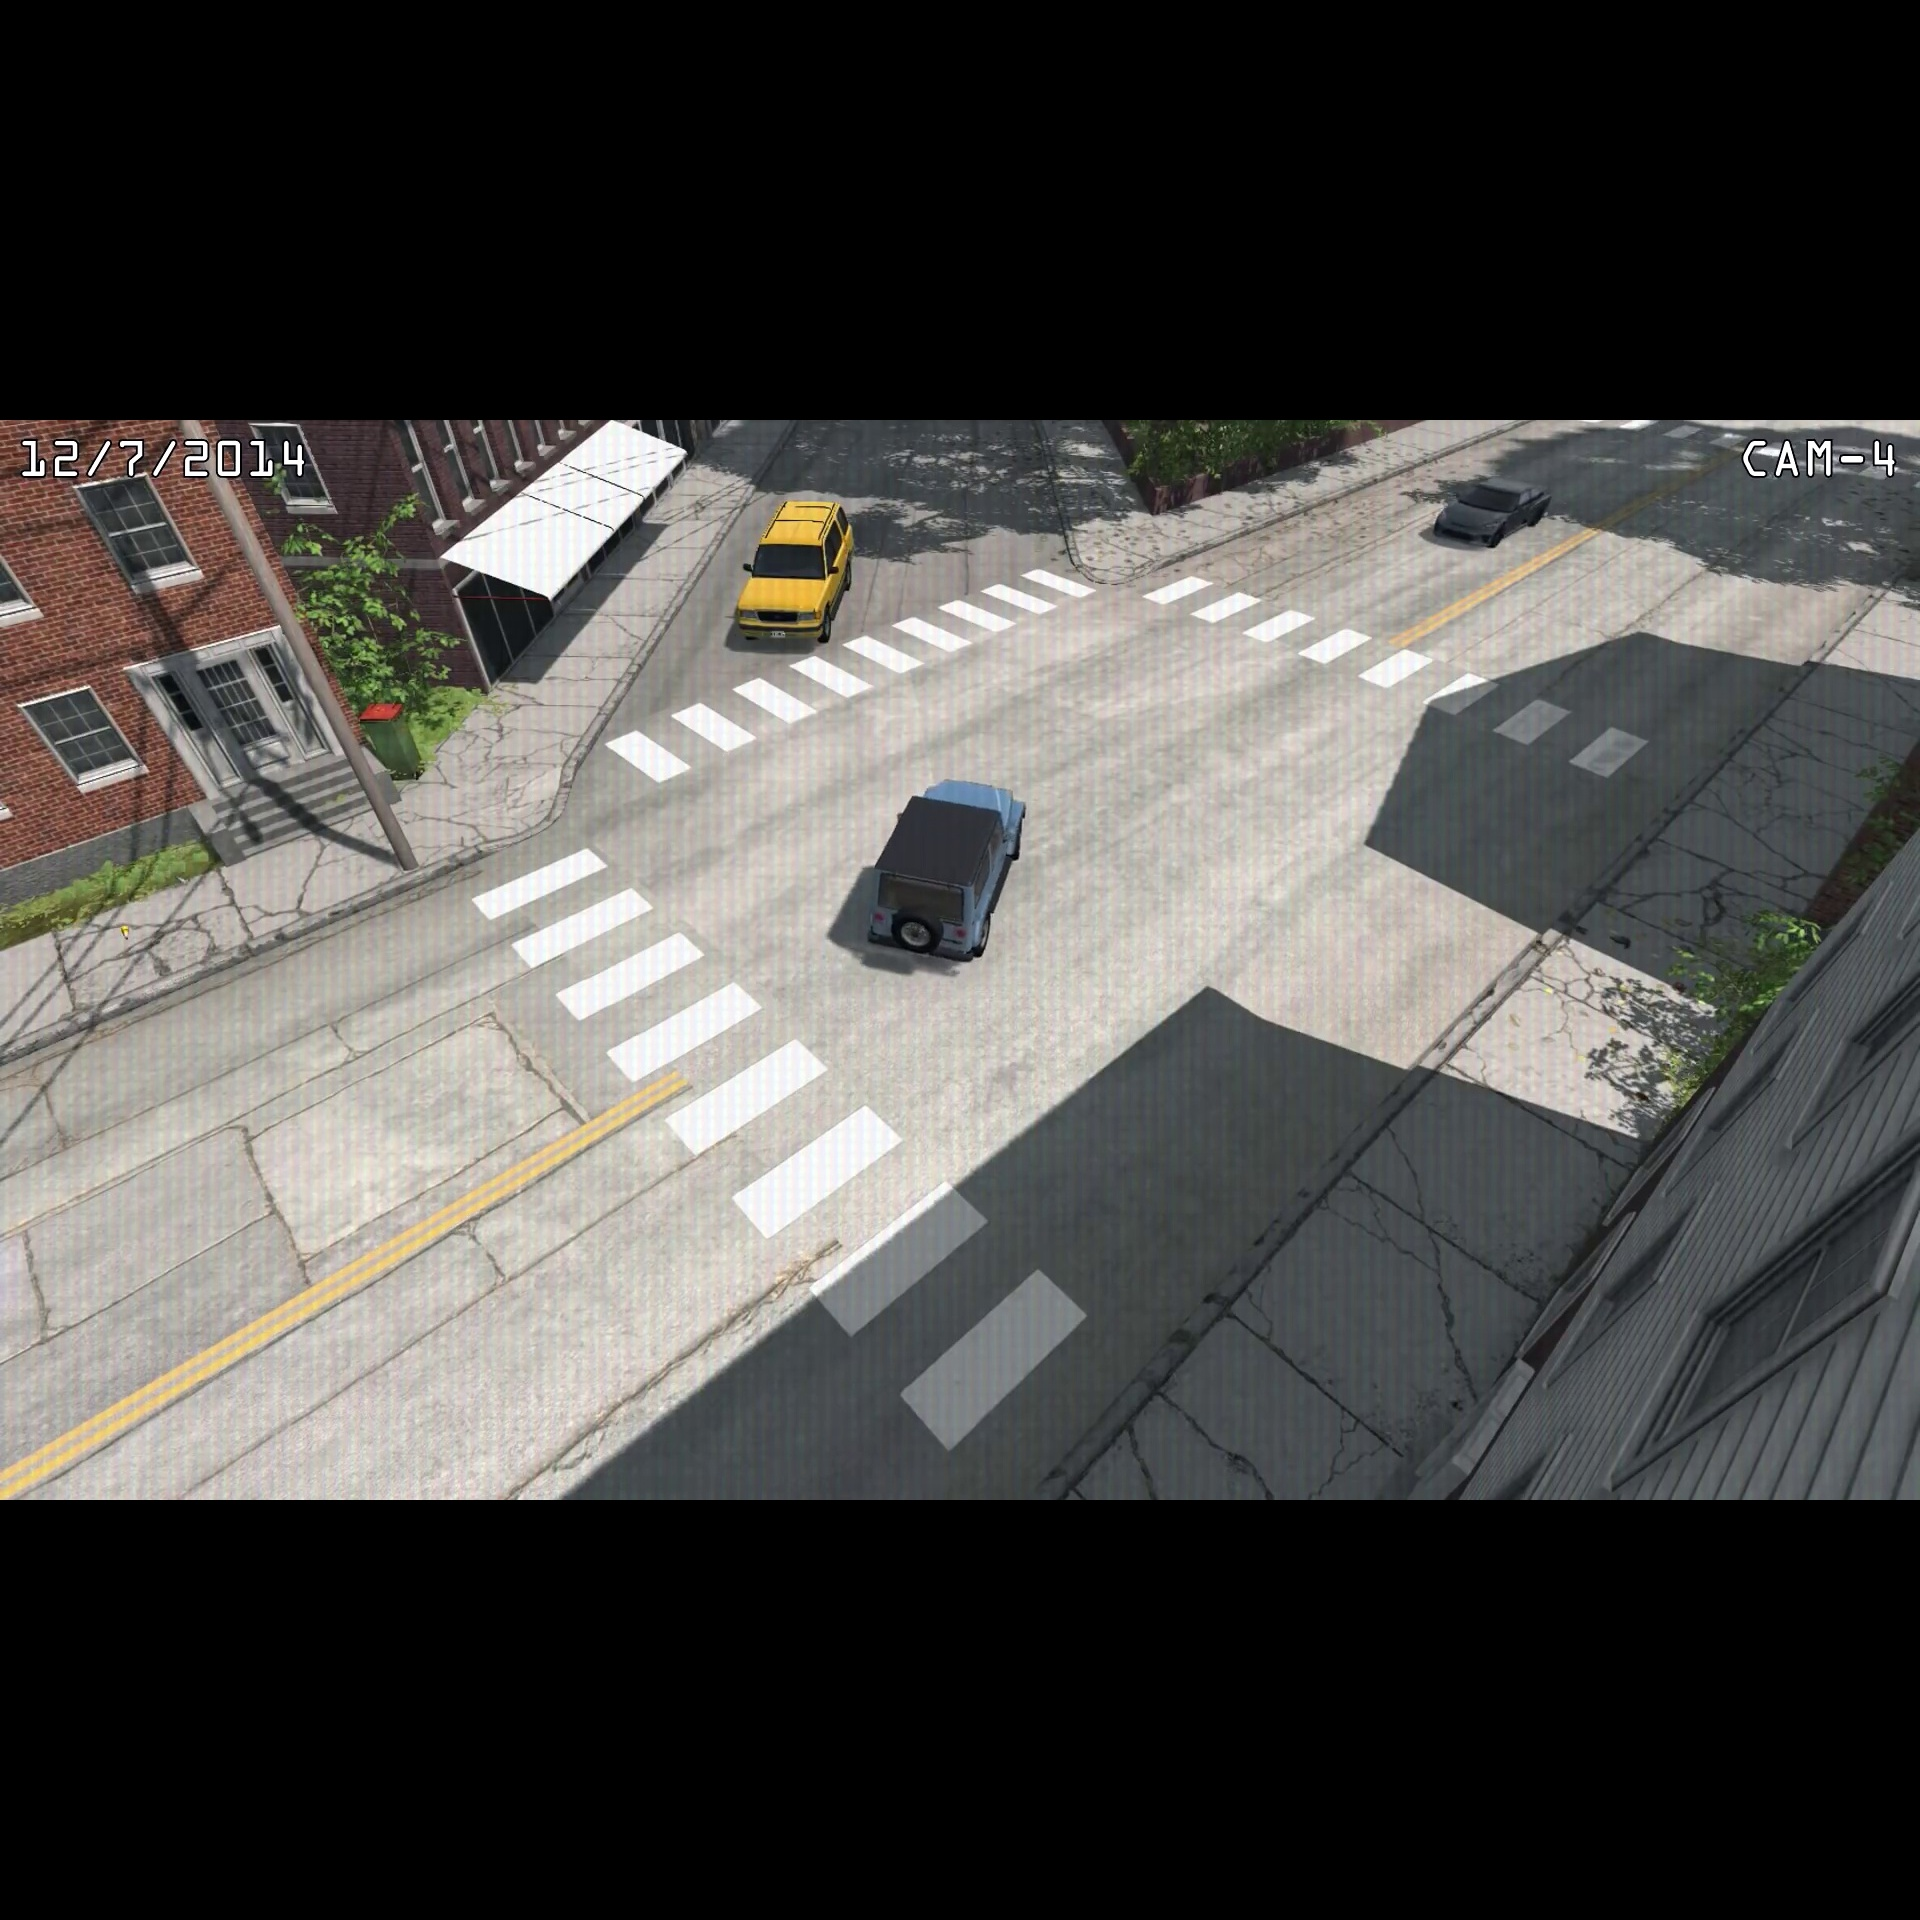vehicle: (860, 770, 1034, 976), (728, 492, 863, 658), (1424, 471, 1558, 554)
